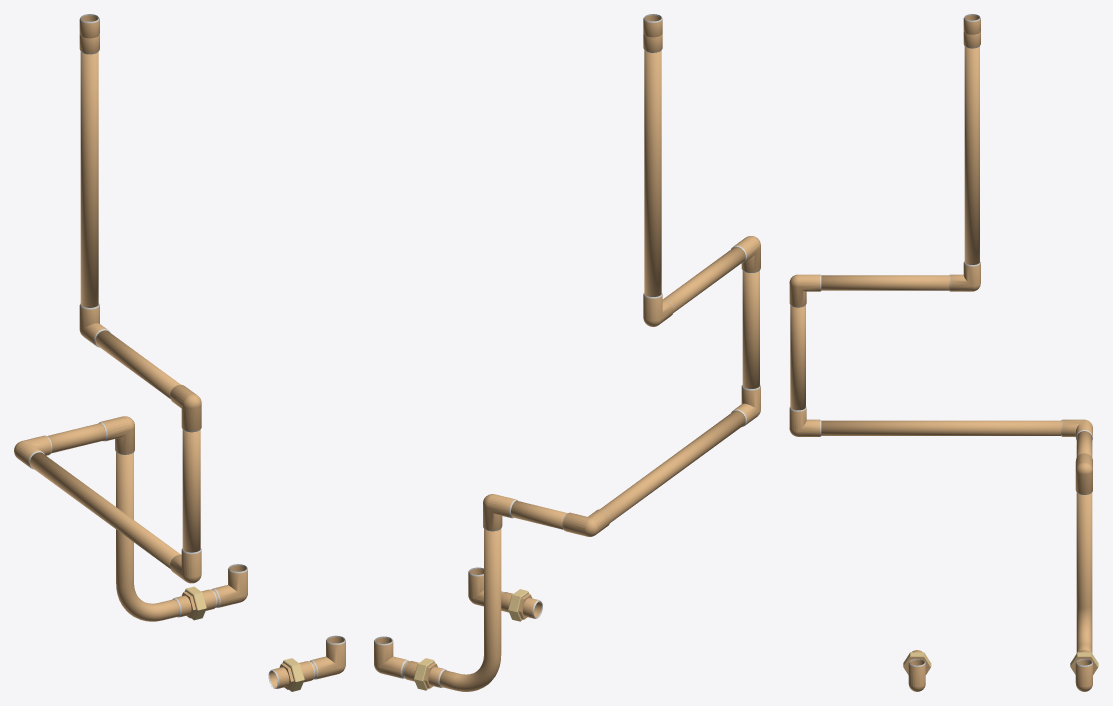
File: slab_pipes_supply__softener-yes_and_plumbing-copper.glb
3 renders of one model, left to right at view 1: azimuth 30°, elevation 25°; view 2: azimuth 150°, elevation 25°; view 3: azimuth 270°, elevation 25°, orthographic. The views are drawn at different scales.
Parts seen in each view (by area): view 1: pipe_supply_from_softener__copper, fit_adapter_pipe_supply_softener_feed__copper, fit_adapter_pipe_supply_from_softener__copper, fit_elbow_pipe_supply_from_softener__copper_5, fit_elbow_pipe_supply_from_softener__copper_2, fit_elbow_pipe_supply_from_softener__copper_4, fit_coupling_pipe_supply_from_softener__copper, fit_elbow_pipe_supply_from_softener__copper_6, fit_elbow_pipe_supply_from_softener__copper_3; view 2: pipe_supply_from_softener__copper, fit_adapter_pipe_supply_from_softener__copper, fit_adapter_pipe_supply_softener_feed__copper, fit_elbow_pipe_supply_from_softener__copper_3, fit_elbow_pipe_supply_from_softener__copper_2, fit_elbow_pipe_supply_from_softener__copper_6, fit_coupling_pipe_supply_from_softener__copper, fit_elbow_pipe_supply_from_softener__copper_5, fit_elbow_pipe_supply_from_softener__copper_4; view 3: pipe_supply_from_softener__copper, fit_elbow_pipe_supply_from_softener__copper_5, fit_adapter_pipe_supply_from_softener__copper, fit_adapter_pipe_supply_softener_feed__copper, fit_elbow_pipe_supply_from_softener__copper_4, fit_elbow_pipe_supply_from_softener__copper_6, fit_elbow_pipe_supply_from_softener__copper_2, fit_coupling_pipe_supply_from_softener__copper, fit_elbow_pipe_supply_from_softener__copper_3.
Part boxes in pixels (x1,y1,x2,y2): pipe_supply_from_softener__copper: (30,52,200,621); fit_adapter_pipe_supply_softener_feed__copper: (268,635,345,691); fit_adapter_pipe_supply_from_softener__copper: (172,564,247,620); fit_elbow_pipe_supply_from_softener__copper_5: (170,384,201,432); fit_elbow_pipe_supply_from_softener__copper_2: (99,416,134,454); fit_elbow_pipe_supply_from_softener__copper_4: (170,548,201,583); fit_coupling_pipe_supply_from_softener__copper: (79,14,99,54); fit_elbow_pipe_supply_from_softener__copper_6: (79,303,110,347); fit_elbow_pipe_supply_from_softener__copper_3: (14,435,52,469); pipe_supply_from_softener__copper: (439,50,759,691); fit_adapter_pipe_supply_from_softener__copper: (374,636,446,690); fit_adapter_pipe_supply_softener_feed__copper: (468,567,542,621); fit_elbow_pipe_supply_from_softener__copper_3: (562,509,610,536); fit_elbow_pipe_supply_from_softener__copper_2: (483,494,517,531); fit_elbow_pipe_supply_from_softener__copper_6: (643,293,673,326); fit_coupling_pipe_supply_from_softener__copper: (643,14,662,52); fit_elbow_pipe_supply_from_softener__copper_5: (731,236,760,272); fit_elbow_pipe_supply_from_softener__copper_4: (731,385,760,427); pipe_supply_from_softener__copper: (790,46,1092,652); fit_elbow_pipe_supply_from_softener__copper_5: (789,274,821,307); fit_adapter_pipe_supply_from_softener__copper: (1070,650,1098,691); fit_adapter_pipe_supply_softener_feed__copper: (903,650,931,691); fit_elbow_pipe_supply_from_softener__copper_4: (789,407,821,436); fit_elbow_pipe_supply_from_softener__copper_6: (949,261,980,291); fit_elbow_pipe_supply_from_softener__copper_2: (1075,453,1092,494); fit_coupling_pipe_supply_from_softener__copper: (963,14,980,48); fit_elbow_pipe_supply_from_softener__copper_3: (1061,419,1092,439).
Bounding box in the file's own units: 0.3276 × 0.9309 × 0.4436.
